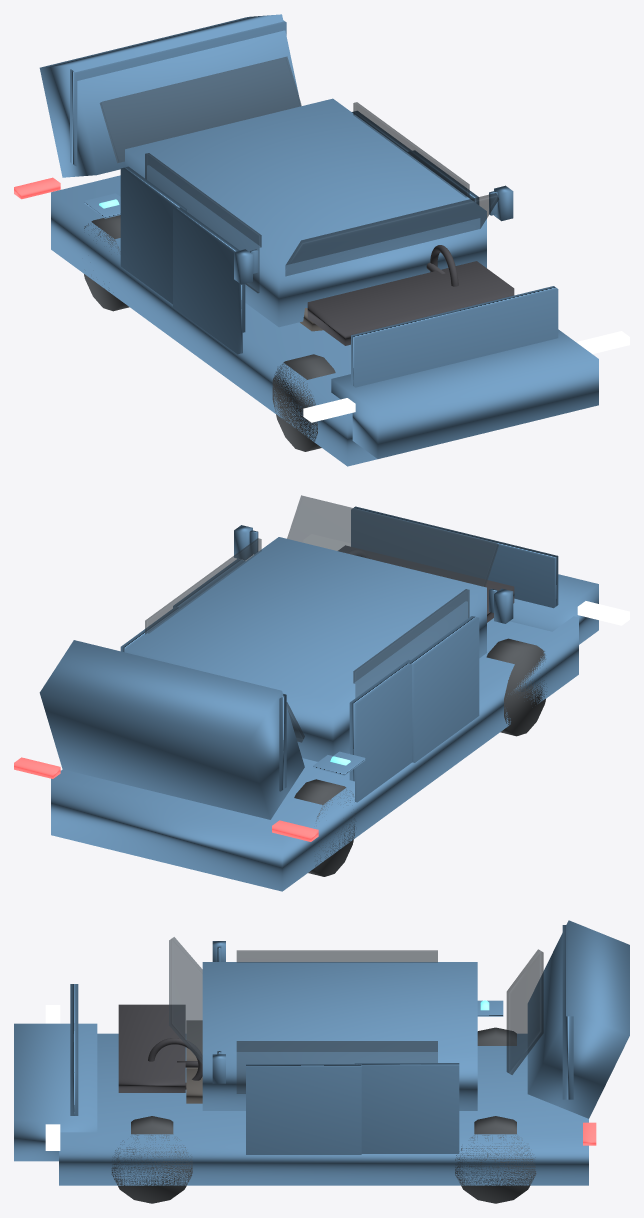
The model's file is compact_sedan_lod.glb.
The picture shows the model from 3 angles, top to bottom: view 1: azimuth 30°, elevation 25°; view 2: azimuth 150°, elevation 25°; view 3: azimuth 270°, elevation 25°; orthographic projection. The views are drawn at different scales.
Visible parts, largest first — view 1: cab, hatch, base, nose, frunk, rear_window, dash, door_fl, windshield, door_rl, window_glass, wheel_fl (+6 smaller); view 2: cab, base, hatch, windshield, frunk, door_fl, door_rl, window_glass, wheel_fl, nose, window_glass.001, wheel_rl (+8 smaller); view 3: base, cab, hatch, door_fr, nose, door_rr, dash, window_glass.001, rear_window, wheel_fr, wheel_rr, windshield (+9 smaller).
Boxes of the visible parts, x1,y1,x2,y2 form: cab: [125, 98, 486, 327]; hatch: [39, 14, 300, 177]; base: [51, 175, 377, 466]; nose: [331, 329, 598, 458]; frunk: [351, 286, 558, 387]; rear_window: [100, 56, 301, 162]; dash: [307, 261, 514, 345]; door_fl: [173, 207, 245, 354]; windshield: [285, 193, 498, 275]; door_rl: [120, 166, 186, 304]; window_glass: [145, 153, 261, 292]; wheel_fl: [272, 354, 335, 451]; cab: [125, 537, 486, 761]; base: [51, 616, 578, 891]; hatch: [39, 640, 304, 819]; windshield: [287, 495, 498, 586]; frunk: [351, 506, 558, 608]; door_fl: [407, 616, 479, 762]; door_rl: [349, 659, 412, 802]; window_glass: [353, 589, 469, 697]; wheel_fl: [486, 638, 546, 736]; nose: [510, 574, 598, 644]; window_glass.001: [145, 538, 261, 634]; wheel_rl: [294, 779, 355, 876]; base: [59, 1033, 588, 1185]; cab: [202, 962, 477, 1110]; hatch: [527, 920, 629, 1118]; door_fr: [246, 1064, 361, 1154]; nose: [14, 1023, 97, 1161]; door_rr: [354, 1063, 459, 1153]; dash: [118, 1004, 185, 1092]; window_glass.001: [236, 1041, 437, 1093]; rear_window: [506, 949, 543, 1074]; wheel_fr: [111, 1116, 192, 1203]; wheel_rr: [455, 1116, 536, 1203]; windshield: [169, 937, 202, 1063].
Bounding box in the file's own units: 2.45 × 1.54 × 4.59.
